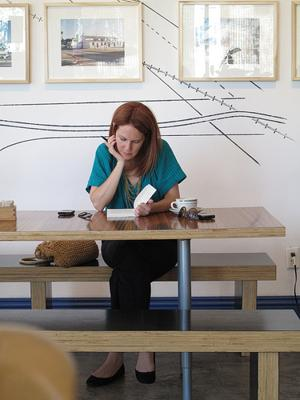person: (86, 102, 188, 387)
